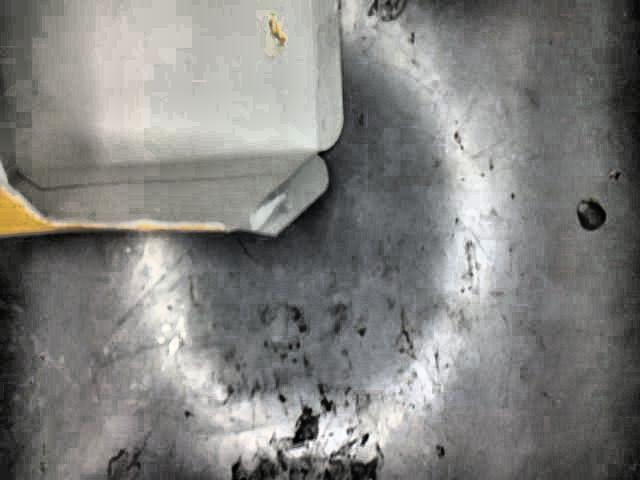Paper: (0, 0, 347, 236)
